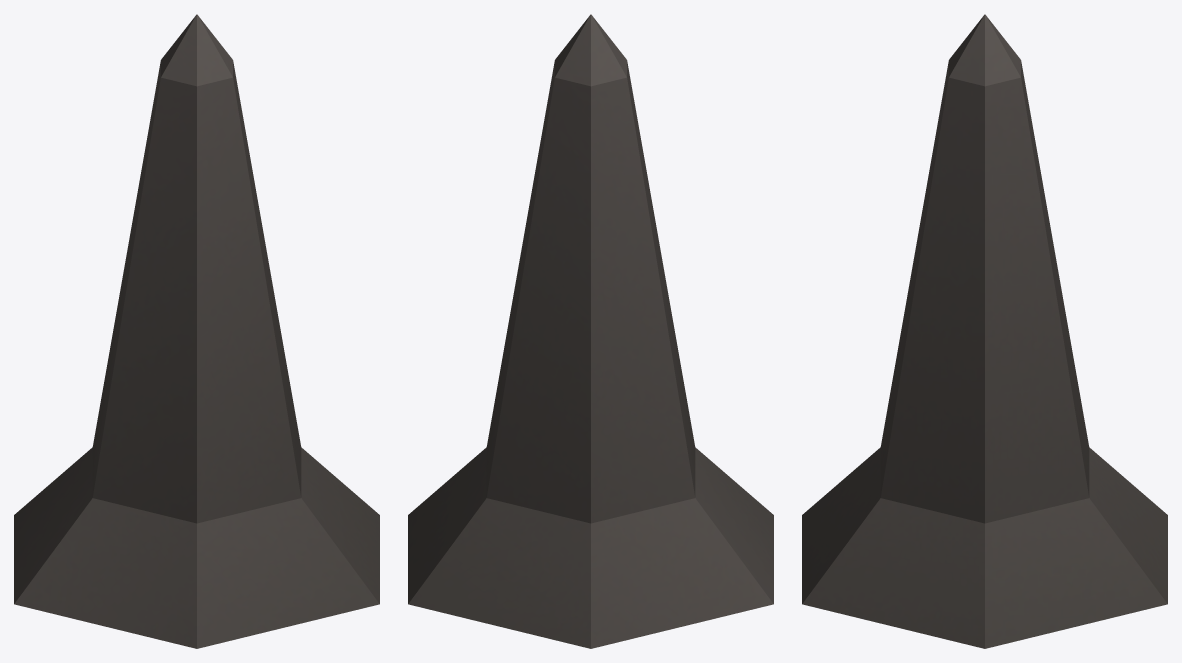
File: Stal_1B.fbx
3 renders of one model, left to right at view 1: azimuth 30°, elevation 25°; view 2: azimuth 150°, elevation 25°; view 3: azimuth 270°, elevation 25°, orthographic.
Visible parts, largest first — view 1: pCone2; view 2: pCone2; view 3: pCone2.
Part boxes in pixels (<box>): pCone2: <box>14,14,379,648</box>; pCone2: <box>408,14,773,648</box>; pCone2: <box>802,14,1167,648</box>.
Bounding box in the file's own units: 70.16 × 100 × 60.76.
Materials: 1 (1 with a texture image).
